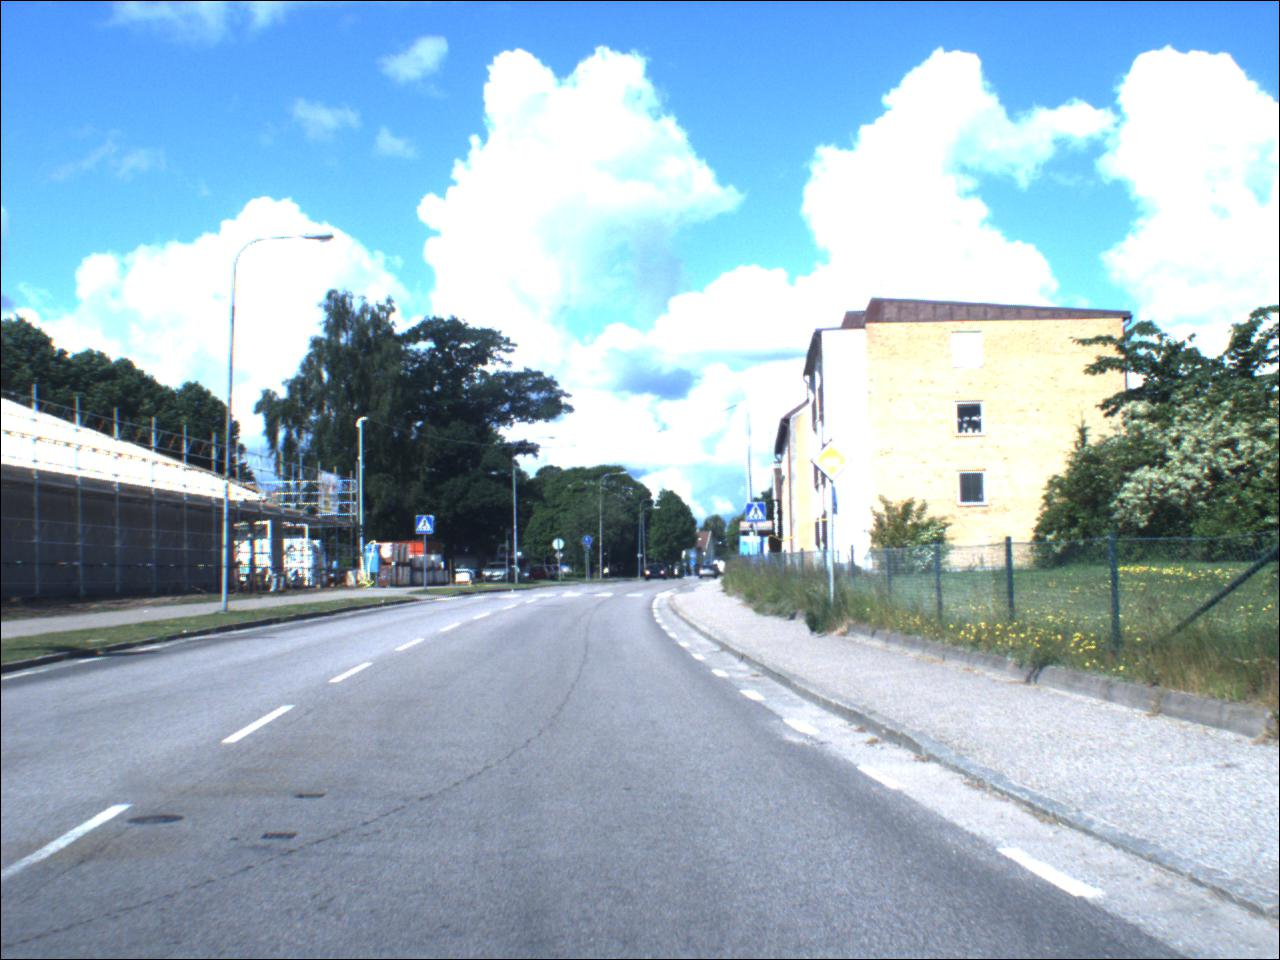PEDESTRIAN_CROSSING: (417, 516, 438, 538), (748, 505, 769, 525)
PRIORITY_ROAD: (813, 439, 856, 483)
